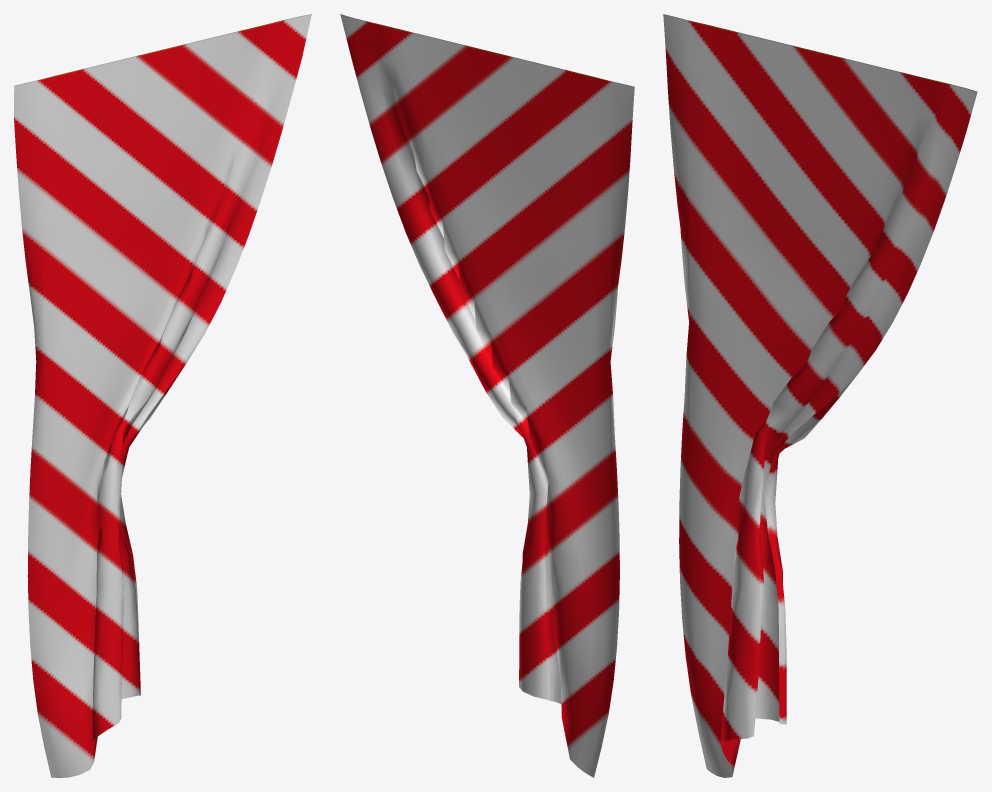
File: 51e16a8d-2970-45ff-b4f6-b4cdca082a0b.glb
The picture shows the model from 3 angles, left to right: view 1: azimuth 30°, elevation 25°; view 2: azimuth 150°, elevation 25°; view 3: azimuth 330°, elevation 25°; orthographic projection. The views are drawn at different scales.
Visible parts, largest first — view 1: CurtainLeftCandyCane; view 2: CurtainLeftCandyCane; view 3: CurtainLeftCandyCane.
Boxes of the visible parts, left/top/right/bottom form: CurtainLeftCandyCane: left=14, top=14, right=311, bottom=777; CurtainLeftCandyCane: left=340, top=14, right=634, bottom=777; CurtainLeftCandyCane: left=663, top=14, right=977, bottom=777.
Bounding box in the file's own units: 0.874 × 1.98 × 0.0844.
Materials: 1 (1 with a texture image).
